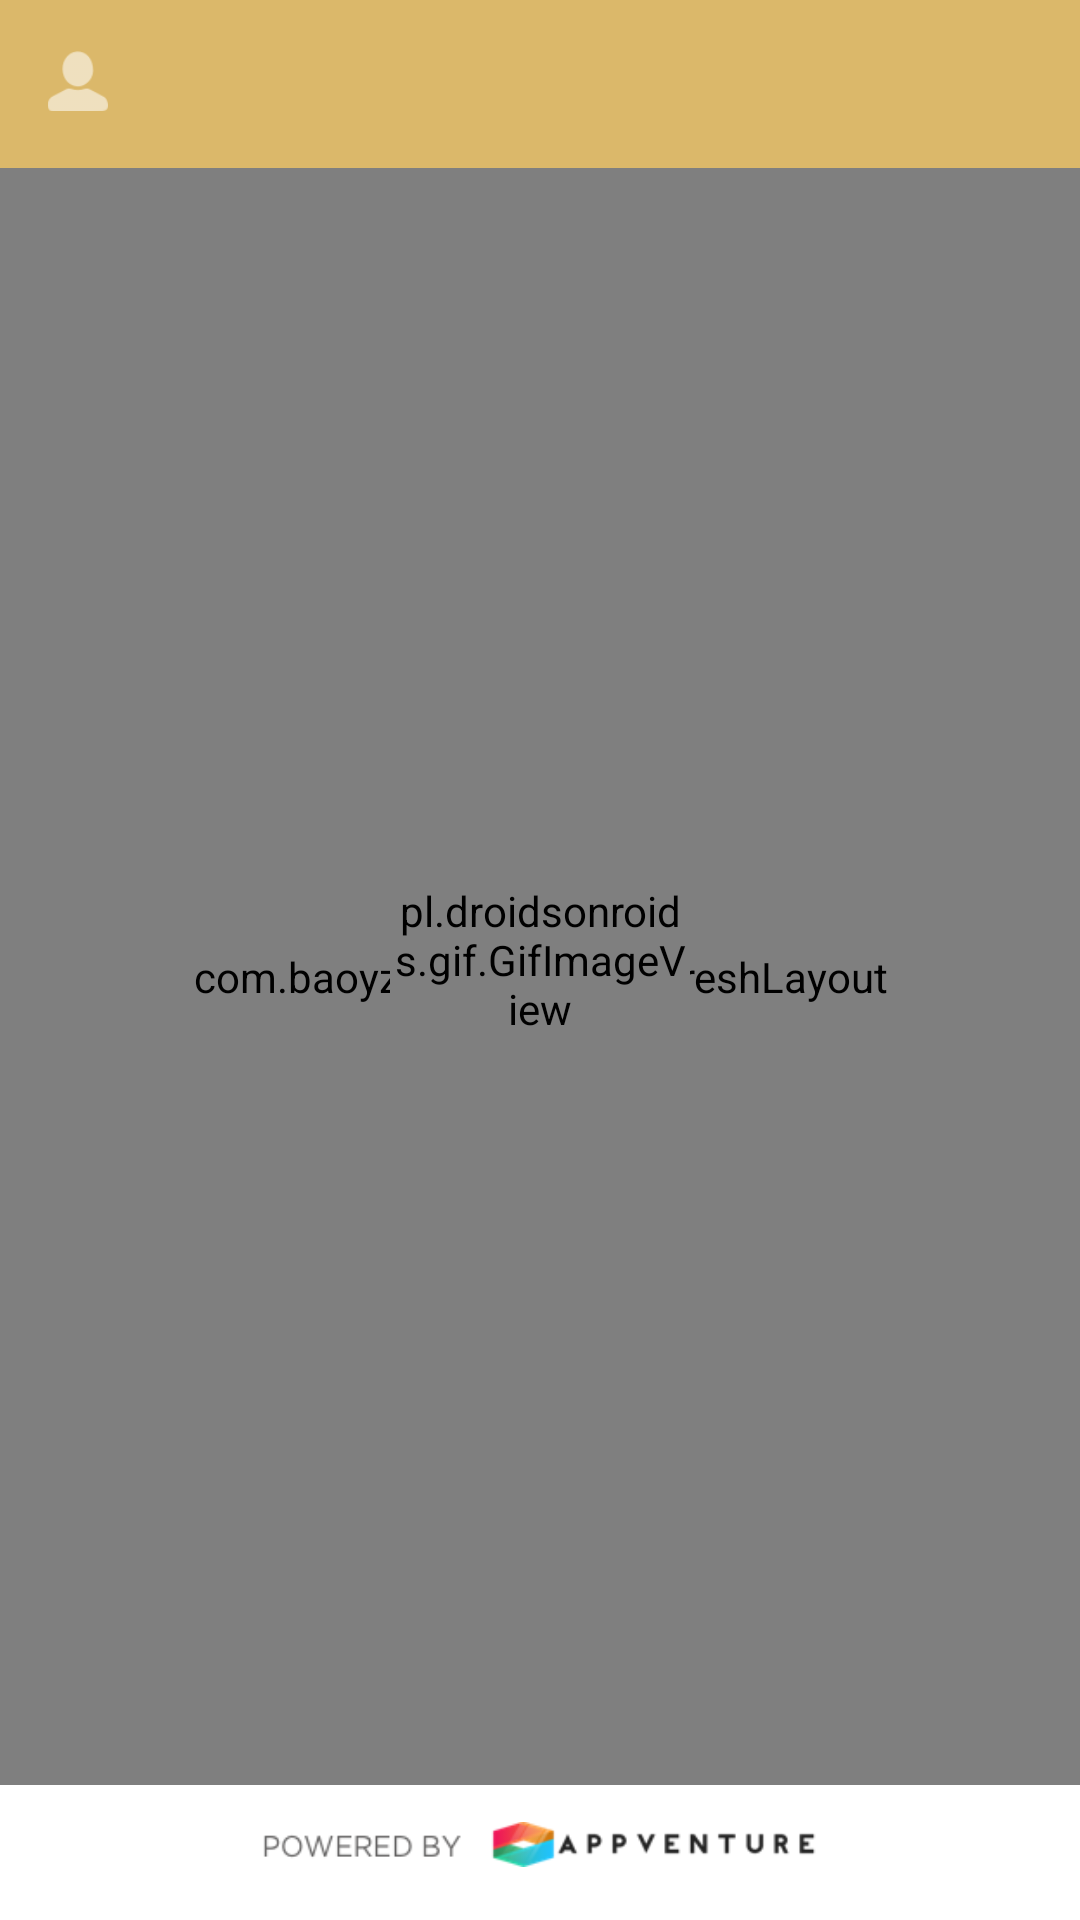

Screen size 1080 × 1920. Icon name, then its box in pixels as (x1,y1,x2,y2):
profile: (48,51,108,111)
